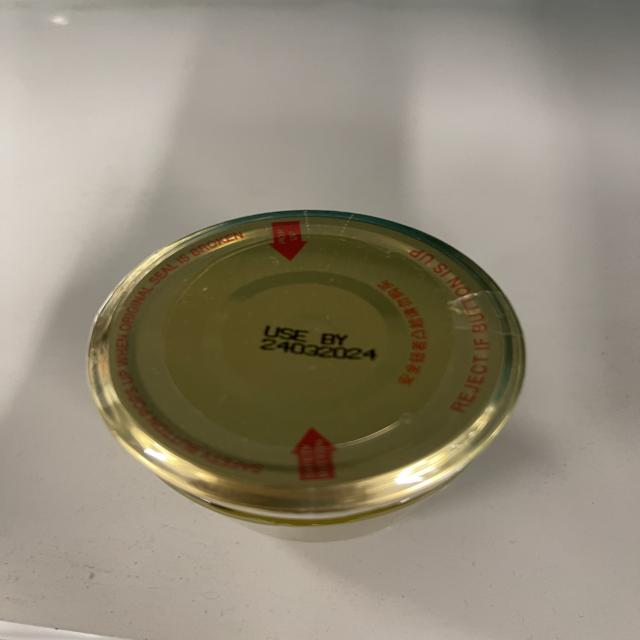object_name: (86, 215, 514, 536)
